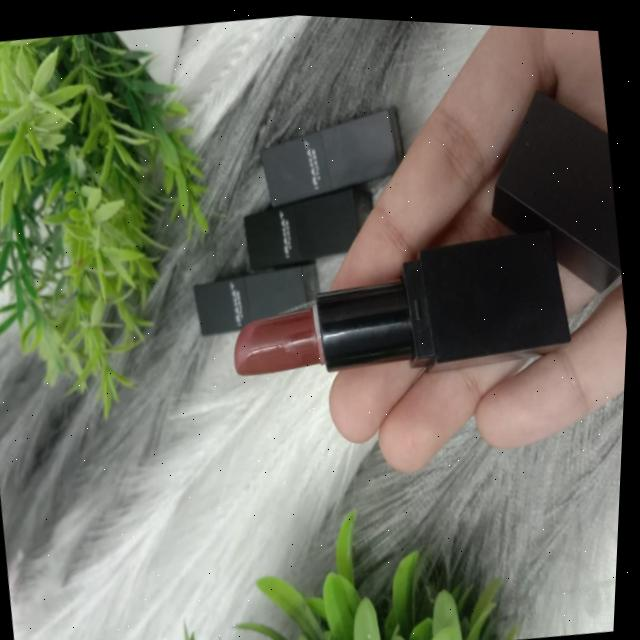lip stick: (207, 213, 587, 409)
